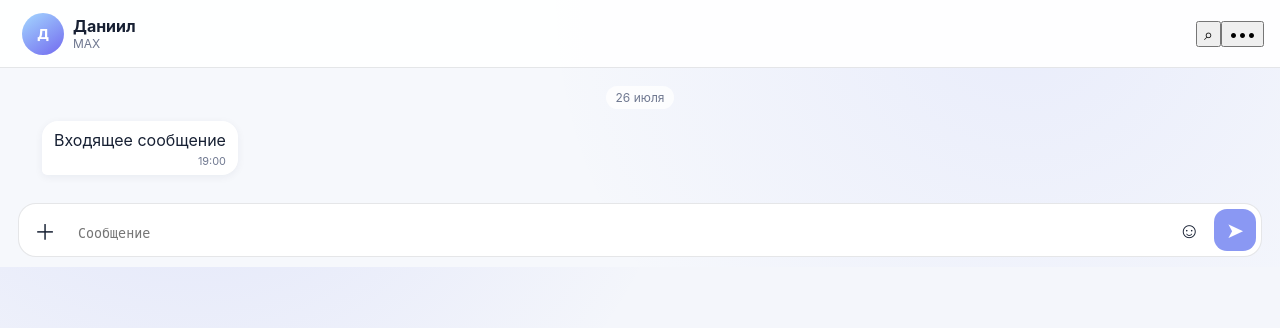
Test: reply and edit composer state › sends a reply with replyToId
Later steps or results of the test are not shown.
Right-click the text "Входящее сообщение".
right_click(140, 148)  # box [42,121,238,175]
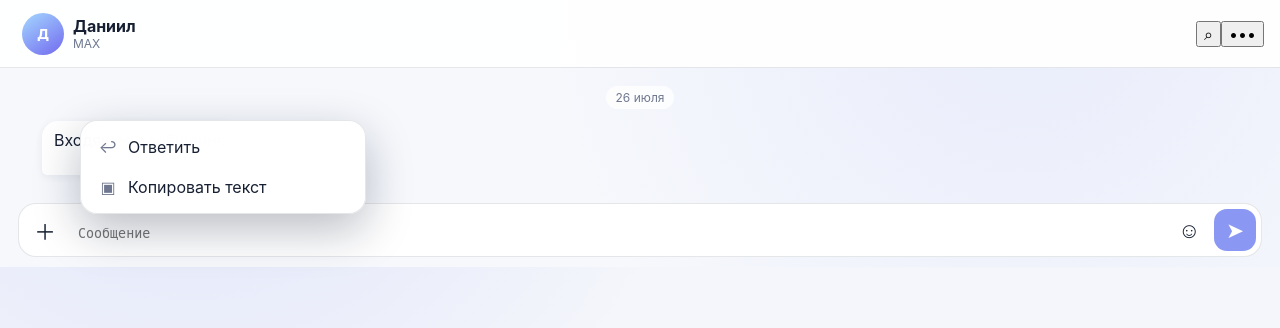
Click the menu item "↩ Ответить".
click(164, 147)  # box [87,127,359,167]
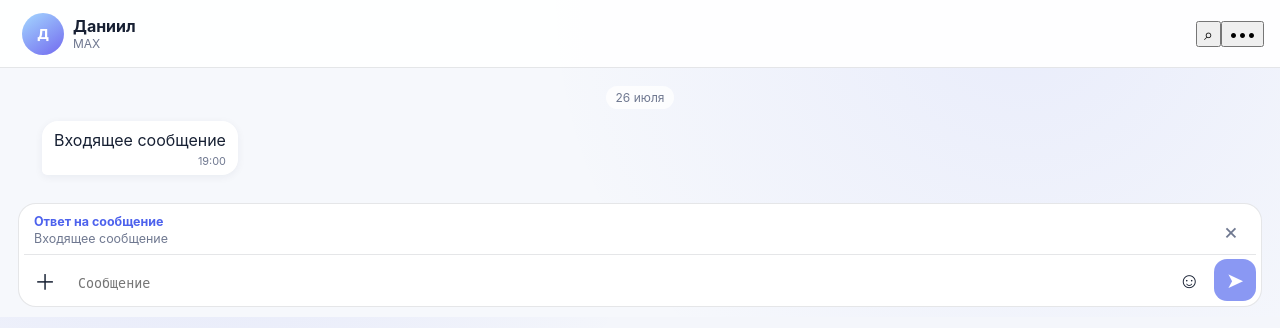
Check: the text "Ответ на сообщение" is shown, box [34,214,163,229]
